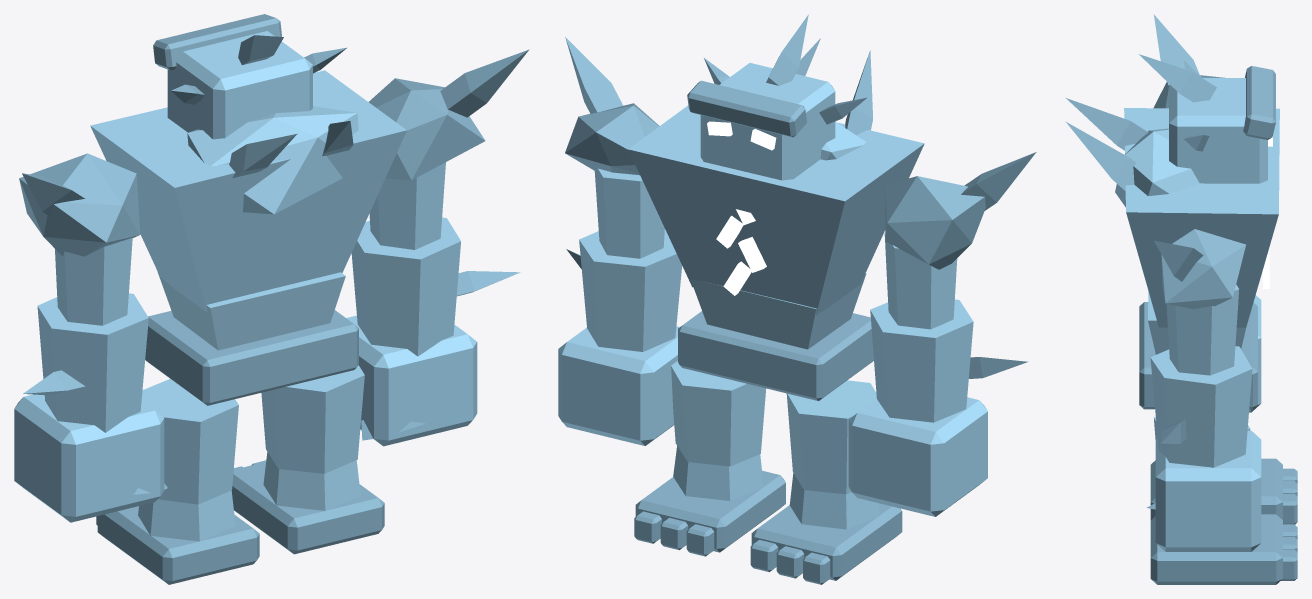
The model's file is golem_stormglass.fbx.
3 renders of one model, left to right at view 1: azimuth 30°, elevation 25°; view 2: azimuth 150°, elevation 25°; view 3: azimuth 270°, elevation 25°, orthographic. The views are drawn at different scales.
Parts seen in each view (by area): view 1: Torso_Main.004, LeftArm_Main.004, RightArm_Main.004, Torso_Trim.004, RightLeg_Main.004, LeftLeg_Main.004, Head_Main.004, LeftArm_Trim.004, RightArm_Trim.004, RightLeg_Trim.004, LeftLeg_Trim.004, Head_Trim.004; view 2: Torso_Main.004, LeftArm_Main.004, RightArm_Main.004, Torso_Trim.004, RightLeg_Main.004, LeftArm_Trim.004, LeftLeg_Main.004, Head_Main.004, RightLeg_Trim.004, LeftLeg_Trim.004, RightArm_Trim.004, Head_Trim.004 (+2 smaller); view 3: RightArm_Main.004, Torso_Main.004, Head_Main.004, RightLeg_Trim.004, RightArm_Trim.004, Torso_Trim.004, Head_Trim.004, LeftLeg_Trim.004, LeftArm_Trim.004, LeftArm_Main.004.
Part boxes in pixels (<box>): Torso_Main.004: <box>90,70,406,350</box>; LeftArm_Main.004: <box>14,237,164,522</box>; RightArm_Main.004: <box>346,162,477,446</box>; Torso_Trim.004: <box>145,121,358,405</box>; RightLeg_Main.004: <box>261,365,364,511</box>; LeftLeg_Main.004: <box>138,379,238,541</box>; Head_Main.004: <box>167,31,312,139</box>; LeftArm_Trim.004: <box>19,153,140,395</box>; RightArm_Trim.004: <box>369,49,529,296</box>; RightLeg_Trim.004: <box>231,420,425,554</box>; LeftLeg_Trim.004: <box>96,483,259,584</box>; Head_Trim.004: <box>153,14,346,104</box>; Torso_Main.004: <box>628,105,924,349</box>; LeftArm_Main.004: <box>848,233,987,516</box>; RightArm_Main.004: <box>558,168,682,445</box>; Torso_Trim.004: <box>678,38,873,401</box>; RightLeg_Main.004: <box>671,361,766,500</box>; LeftArm_Trim.004: <box>884,152,1036,378</box>; LeftLeg_Main.004: <box>786,380,879,529</box>; Head_Main.004: <box>700,63,835,180</box>; RightLeg_Trim.004: <box>634,470,785,556</box>; LeftLeg_Trim.004: <box>750,503,902,584</box>; RightArm_Trim.004: <box>565,37,659,268</box>; Head_Trim.004: <box>687,14,866,137</box>; RightArm_Main.004: <box>1150,284,1261,551</box>; Torso_Main.004: <box>1115,108,1279,354</box>; Head_Main.004: <box>1169,78,1267,183</box>; RightLeg_Trim.004: <box>1146,503,1297,584</box>; RightArm_Trim.004: <box>1154,229,1245,443</box>; Torso_Trim.004: <box>1065,98,1257,409</box>; Head_Trim.004: <box>1139,54,1275,151</box>; LeftLeg_Trim.004: <box>1150,458,1297,524</box>; LeftArm_Trim.004: <box>1153,14,1224,108</box>; LeftArm_Main.004: <box>1249,295,1261,412</box>.
Size of the model in its own units: 1624 by 1619 by 704.
